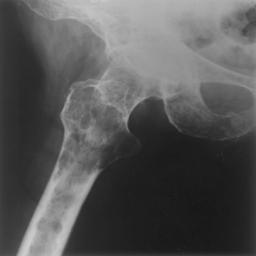cancer: (15, 61, 253, 256)
